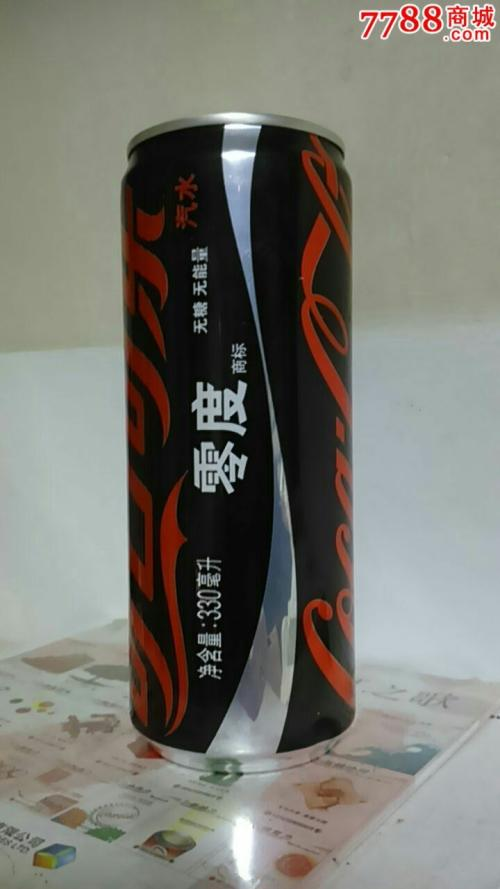coke_zero: (82, 80, 386, 810)
